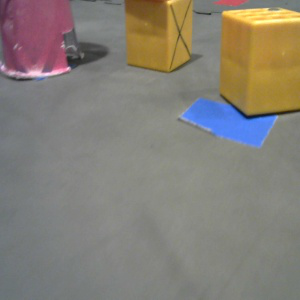middle: (1, 1, 84, 79)
